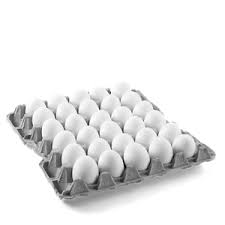eggs: (101, 147, 127, 179), (84, 76, 107, 106), (44, 90, 72, 113), (64, 142, 88, 168), (23, 92, 50, 115), (74, 153, 97, 180), (75, 121, 102, 144), (129, 136, 146, 169), (149, 136, 171, 161), (70, 82, 91, 107), (109, 78, 139, 95), (28, 107, 54, 126), (64, 110, 86, 132), (175, 133, 196, 156), (138, 124, 161, 144), (51, 130, 78, 147), (41, 119, 65, 138), (88, 138, 113, 156), (104, 117, 123, 137), (162, 123, 181, 143), (147, 111, 166, 130), (125, 115, 146, 132), (95, 110, 113, 129), (117, 128, 136, 146), (134, 100, 155, 115), (112, 103, 128, 121)
